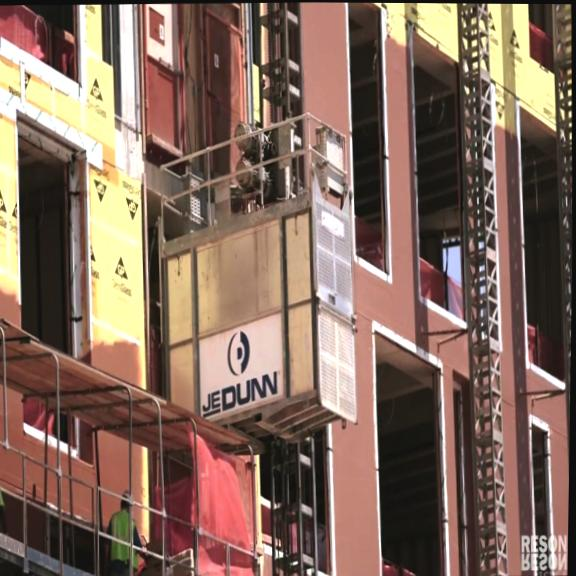safety_vest: (109, 508, 139, 568)
